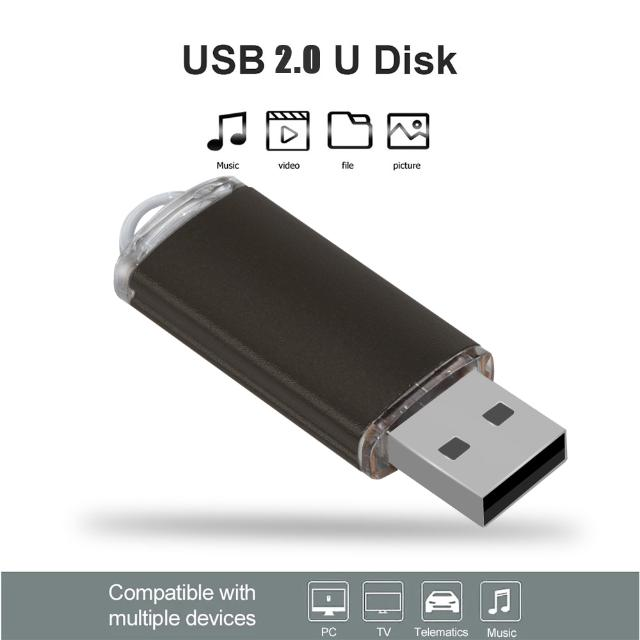USB-Flash-Drive: (112, 180, 568, 528)
